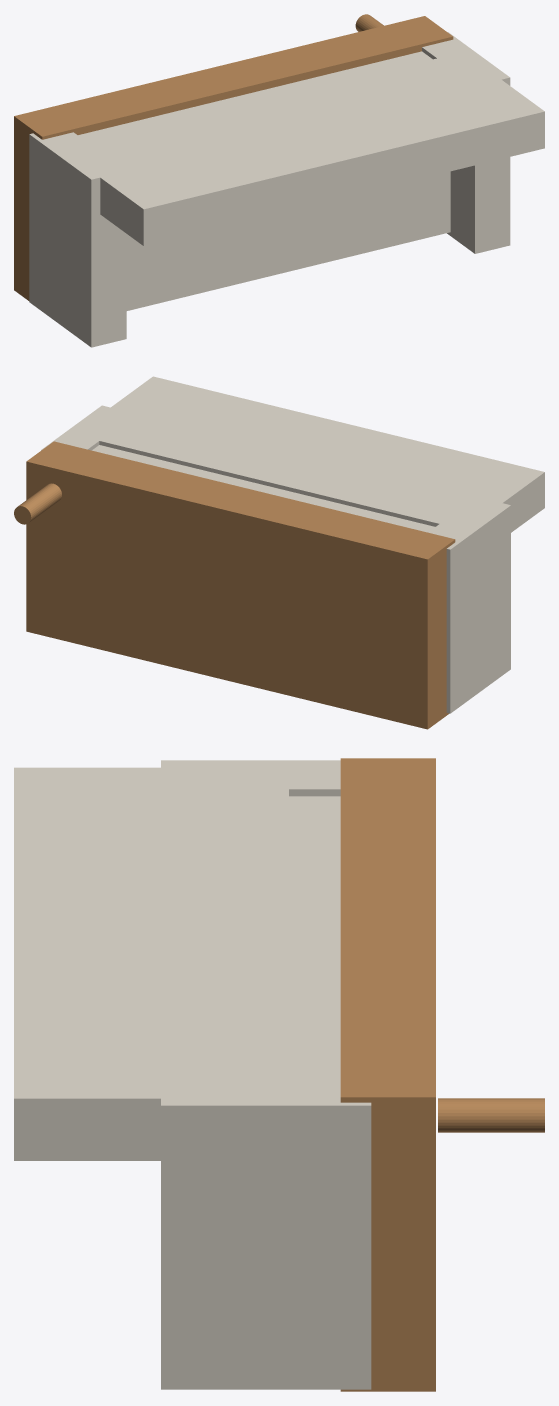
File: sofa.glb
3 renders of one model, top to bottom at view 1: azimuth 30°, elevation 25°; view 2: azimuth 150°, elevation 25°; view 3: azimuth 270°, elevation 25°, orthographic. The views are drawn at different scales.
Parts seen in each view (by area): view 1: Back, Seat, Base, ArmL, ArmR; view 2: Base, Back, ArmL, Seat, ArmR, Leg; view 3: Back, ArmR, Base, Seat, Leg, ArmL.
Boxes of the visible parts, box(x1,y1,x2,y2) form: Back: box(63, 52, 544, 245); Seat: box(78, 51, 450, 310); Base: box(14, 16, 453, 300); ArmL: box(29, 132, 126, 347); ArmR: box(422, 32, 510, 253); Base: box(26, 441, 455, 729); Back: box(74, 376, 544, 532); ArmL: box(428, 497, 510, 713); Seat: box(92, 445, 434, 532); ArmR: box(41, 405, 135, 450); Leg: box(14, 483, 61, 524); Back: box(14, 767, 288, 1160); ArmR: box(161, 1076, 371, 1389); Base: box(340, 758, 435, 1391); Seat: box(289, 796, 340, 1076); Leg: box(438, 1098, 544, 1132); ArmL: box(161, 760, 340, 796).
Bounding box in the file's own units: 2.14 × 0.85 × 1.39.
